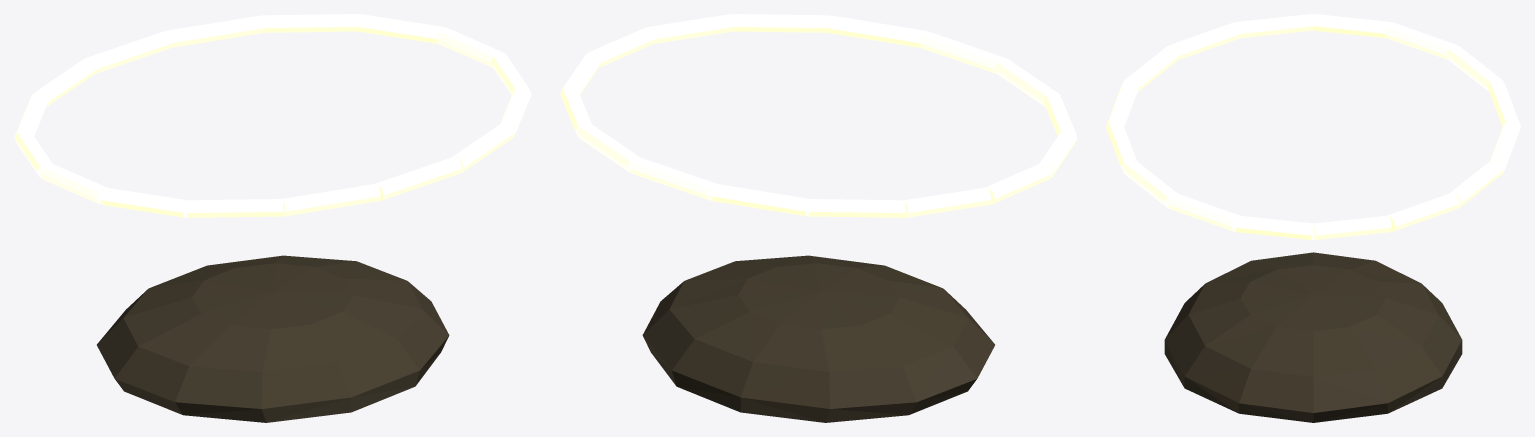
Rendered from halo.glb.
The picture shows the model from 3 angles, left to right: view 1: azimuth 30°, elevation 25°; view 2: azimuth 150°, elevation 25°; view 3: azimuth 270°, elevation 25°; orthographic projection. The views are drawn at different scales.
Visible parts, largest first — view 1: Halo.002; view 2: Halo.002; view 3: Halo.002.
Part boxes in pixels (x1=…): Halo.002: x1=14, y1=14, x2=531, y2=422; Halo.002: x1=560, y1=14, x2=1077, y2=422; Halo.002: x1=1106, y1=14, x2=1520, y2=422.
Size of the model in its own units: 0.7754 by 0.3912 by 0.6262.
